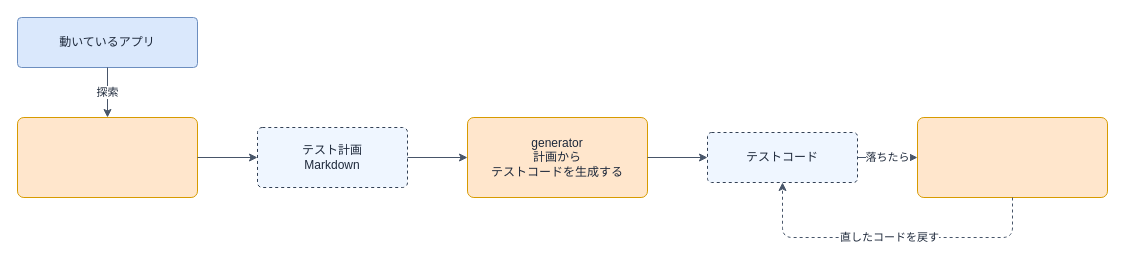
The diagram is 1125 pixels wide and 263 high, and some of its shapes have lost their labels. Each missing label, with the box of its shape:
healer 落ちたテストを再生して 修正案を出す: (916, 116, 1108, 198)
planner 画面を探索して テスト計画を作る: (16, 116, 198, 198)
